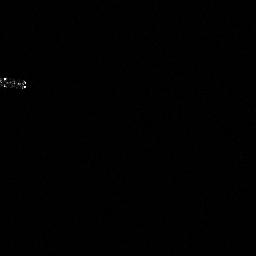ship: (1, 73, 29, 92)
